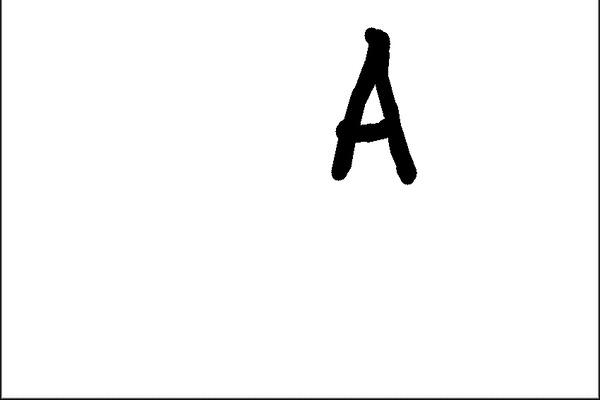A: (319, 22, 423, 189)
